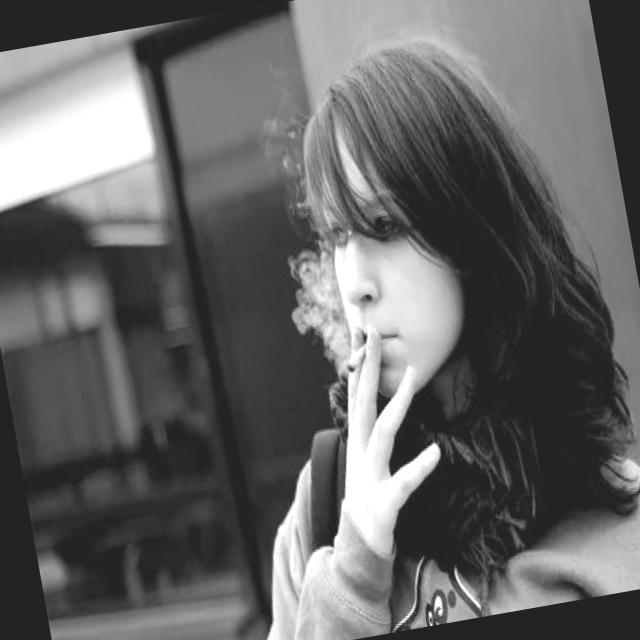cigarette: (342, 338, 380, 380)
